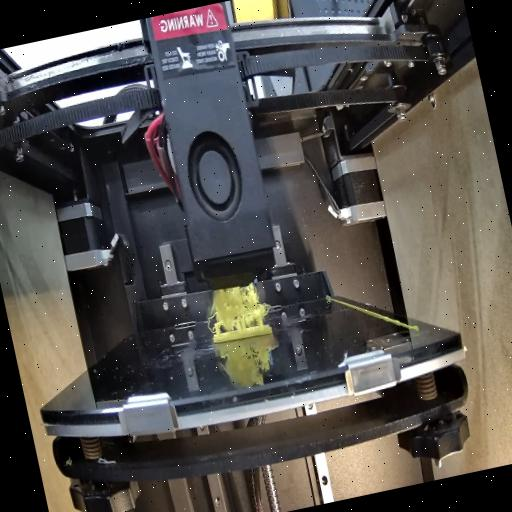spaghetti: (200, 276, 271, 336)
